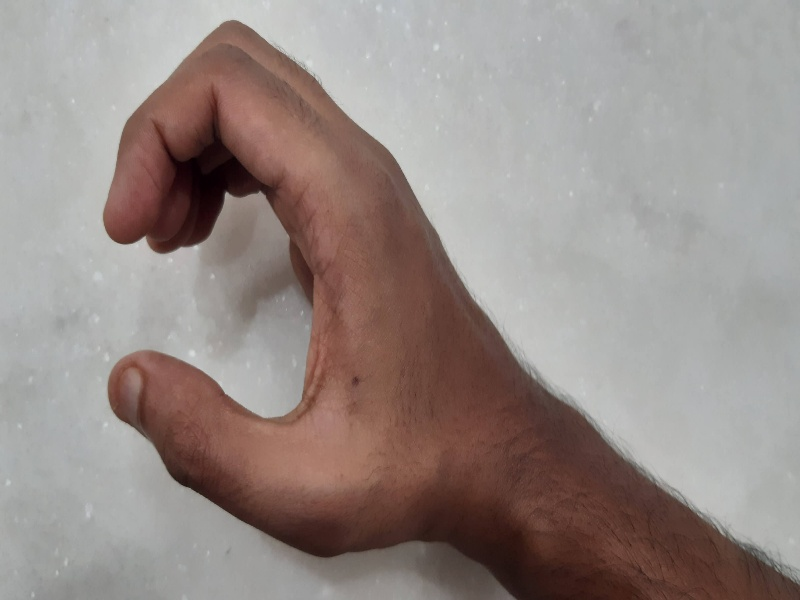one: (84, 1, 489, 569)
